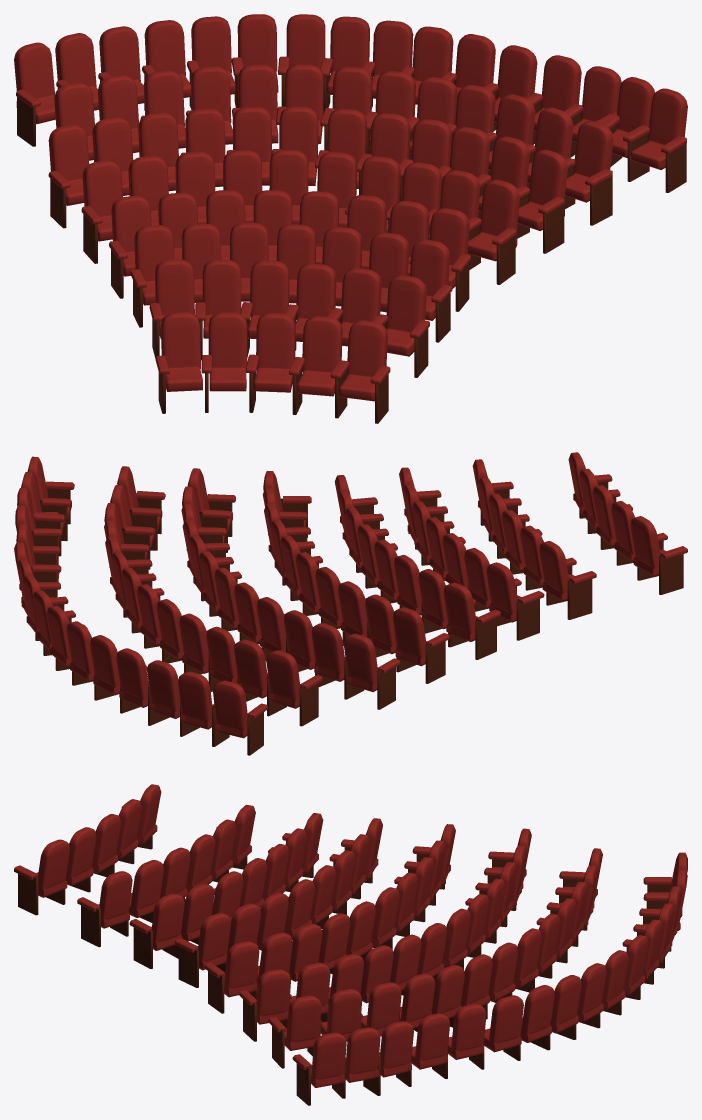
The model's file is ChairsFancy.fbx.
3 views of the same model, one above another, from view 1: azimuth 30°, elevation 25°; view 2: azimuth 150°, elevation 25°; view 3: azimuth 270°, elevation 25° (orthographic). The views are drawn at different scales.
Parts seen in each view (by area): view 1: pCube58, pCube49, pCube48, pCube50, pCube54, pCube53, pCube51, pCube52; view 2: pCube58, pCube48, pCube49, pCube50, pCube51, pCube52, pCube53, pCube54; view 3: pCube58, pCube48, pCube49, pCube50, pCube51, pCube52, pCube53, pCube54.
Part boxes in pixels (x1,y1,x2,y2): pCube58: (14,14,687,192); pCube49: (48,106,567,253); pCube48: (54,64,613,225); pCube50: (81,150,519,284); pCube54: (155,312,390,423); pCube53: (149,259,429,377); pCube51: (109,190,470,311); pCube52: (130,222,452,342); pCube58: (14,456,267,755); pCube48: (104,466,322,726); pCube49: (181,468,400,709); pCube50: (262,471,449,683); pCube51: (334,475,500,659); pCube52: (399,467,544,640); pCube53: (472,459,596,619); pCube54: (568,452,687,594); pCube58: (292,852,687,1105); pCube48: (268,848,602,1068); pCube49: (239,828,531,1041); pCube50: (204,824,455,1013); pCube51: (175,818,382,987); pCube52: (129,813,323,968); pCube53: (77,804,255,947); pCube54: (14,784,161,915).
Bounding box in the file's own units: 23.58 × 2.87 × 25.21.
